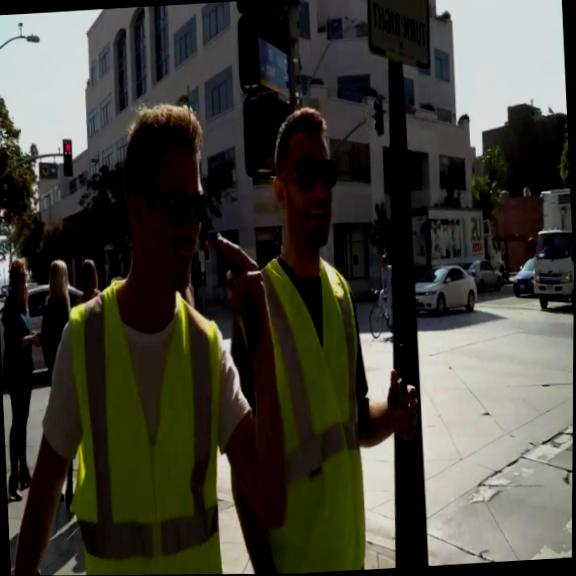safety_vest: (58, 268, 234, 576), (234, 245, 371, 574)
